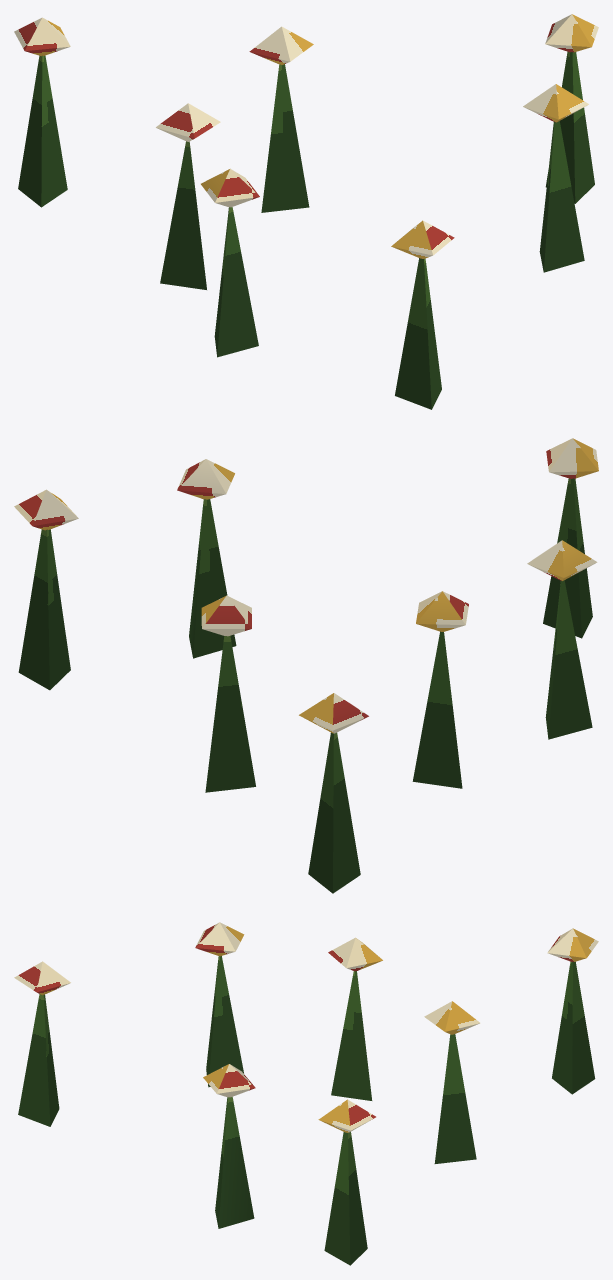
File: mnat.flowers.glb
3 views of the same model, one above another, from view 1: azimuth 30°, elevation 25°; view 2: azimuth 150°, elevation 25°; view 3: azimuth 270°, elevation 25° (orthographic). The views are drawn at different scales.
Visible parts, largest first — view 1: kit_plants, kit_heads; view 2: kit_plants, kit_heads; view 3: kit_plants, kit_heads.
Part boxes in pixels (x1,y1,x2,y2): kit_plants: (18, 51, 594, 409); kit_heads: (14, 14, 598, 258); kit_plants: (18, 478, 592, 893); kit_heads: (14, 438, 598, 733); kit_plants: (18, 956, 595, 1265); kit_heads: (14, 922, 598, 1132).
Size of the model in its own units: 1.13 by 0.41 by 1.4.
Materials: 2 (2 with a texture image).
